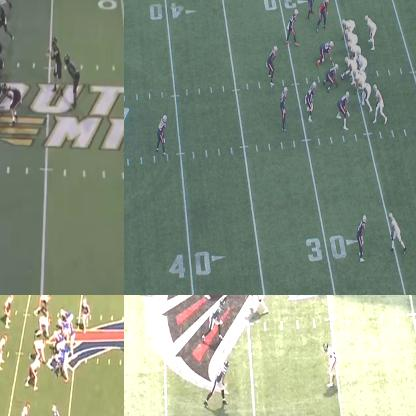CENTER: (343, 56, 355, 82), (53, 330, 64, 348)
DB: (324, 342, 338, 388), (357, 214, 368, 261), (157, 115, 167, 154), (282, 85, 289, 126), (308, 0, 318, 15), (18, 404, 30, 415)
LB: (288, 9, 300, 45), (267, 45, 277, 84), (318, 0, 329, 31), (308, 83, 316, 122), (4, 295, 13, 327), (0, 336, 9, 368)
QB: (49, 36, 64, 90), (68, 320, 76, 356), (357, 50, 367, 69)
SKILL: (205, 360, 229, 408), (202, 296, 224, 342), (66, 54, 81, 112), (242, 295, 272, 316), (388, 212, 401, 250), (0, 1, 10, 41), (366, 15, 376, 52), (374, 84, 383, 119), (79, 300, 89, 330), (341, 18, 356, 29), (51, 405, 65, 415)
